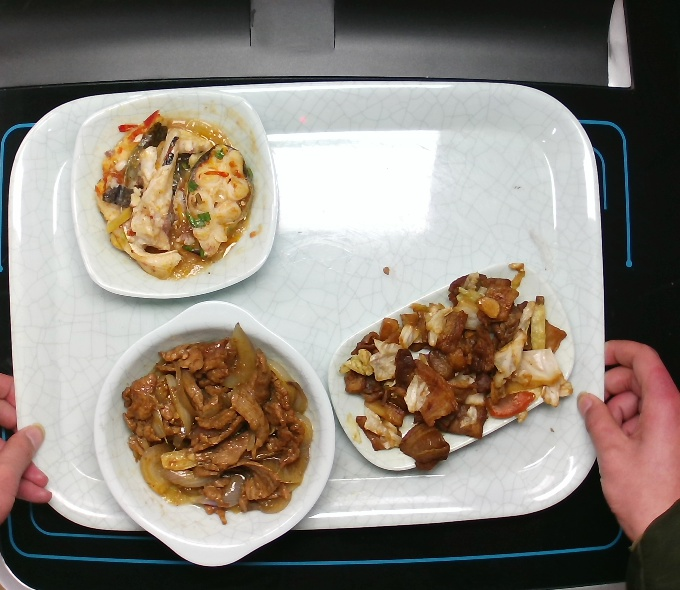wcq-DuoJiaoYuKuai: (93, 118, 255, 279)
wcq-PaoCaiRouPian: (352, 282, 562, 467)
wcq-YangCongRouPian: (123, 338, 310, 531)
